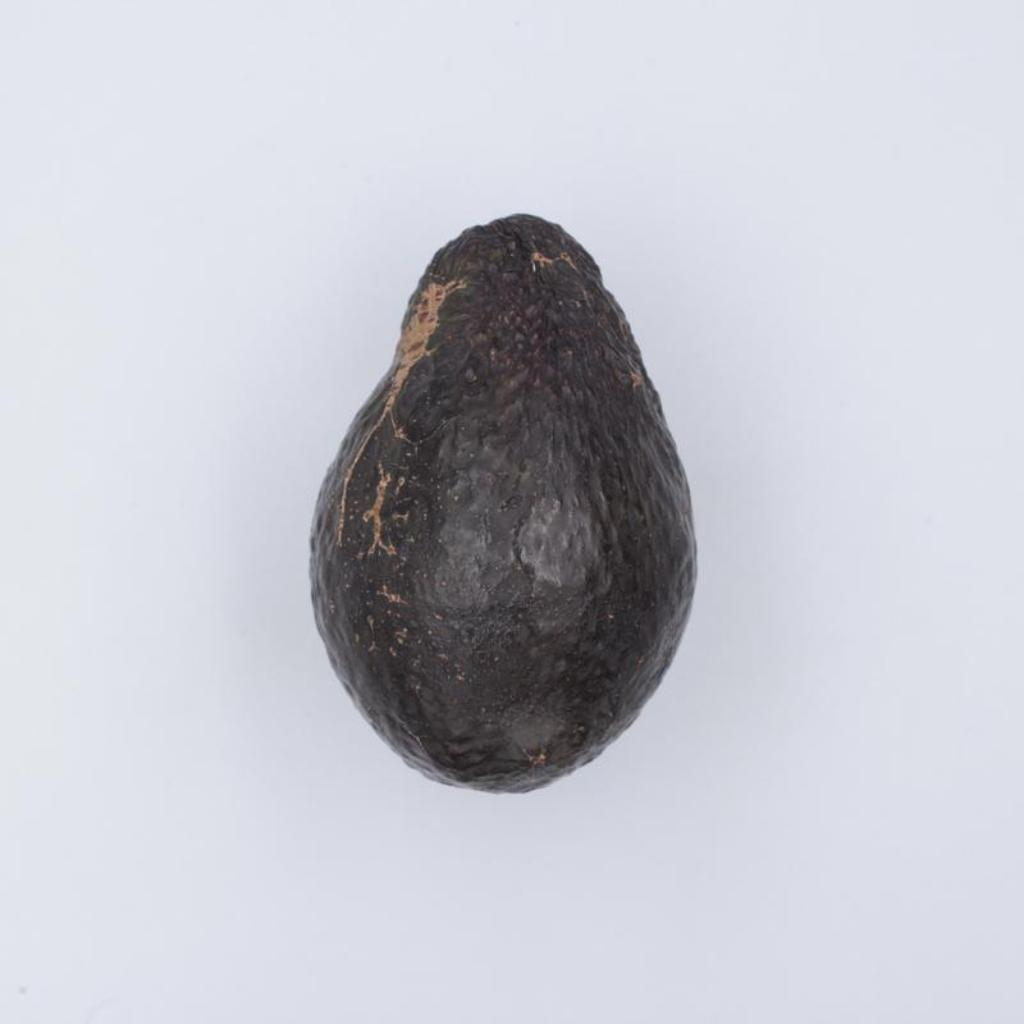scab: (311, 215, 695, 791)
